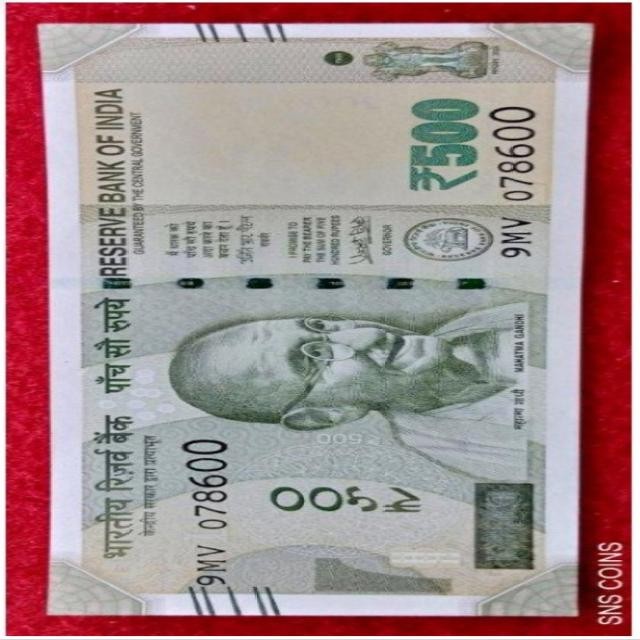500IndianRupees: (46, 20, 580, 612)
